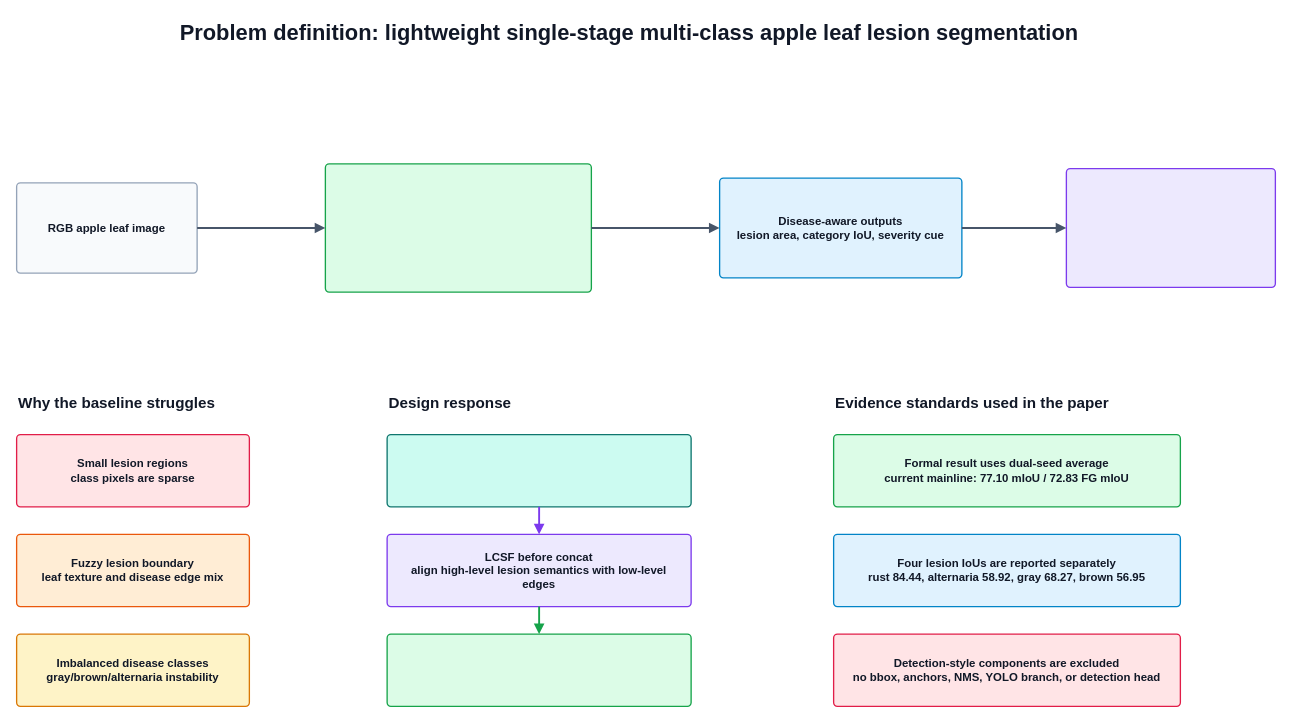
Some shapes in this 1293 by 723 pixel diagram are drawn without their labels. Here are the shapes that lost their labels. From the top down, the centre of each, then its label:
the point at 458,227: Six-class semantic mask background / leaf / rust / alternaria / gray / brown
the point at 1170,227: Paper claim better lesion-class segmentation without detection-style branches
the point at 538,470: LGC after ASPP recover lesion context at high semantic level
the point at 538,670: RepConv + LesionDice2 train robustly, deploy with fused decoder conv
